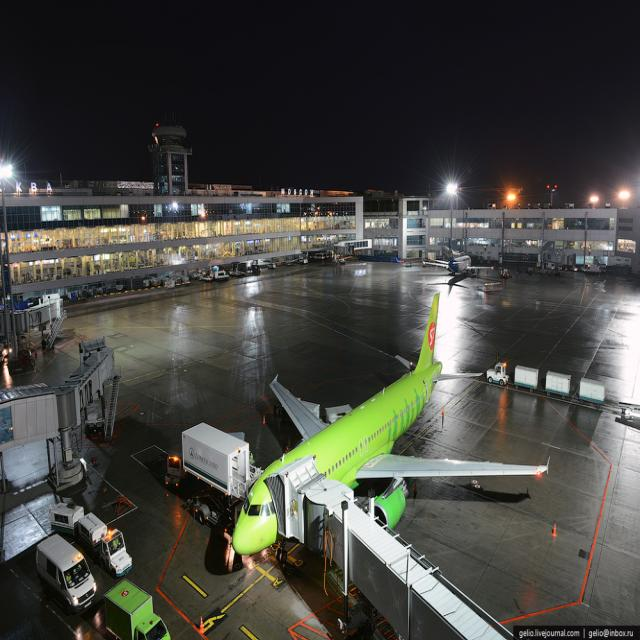plain: (206, 286, 552, 569)
